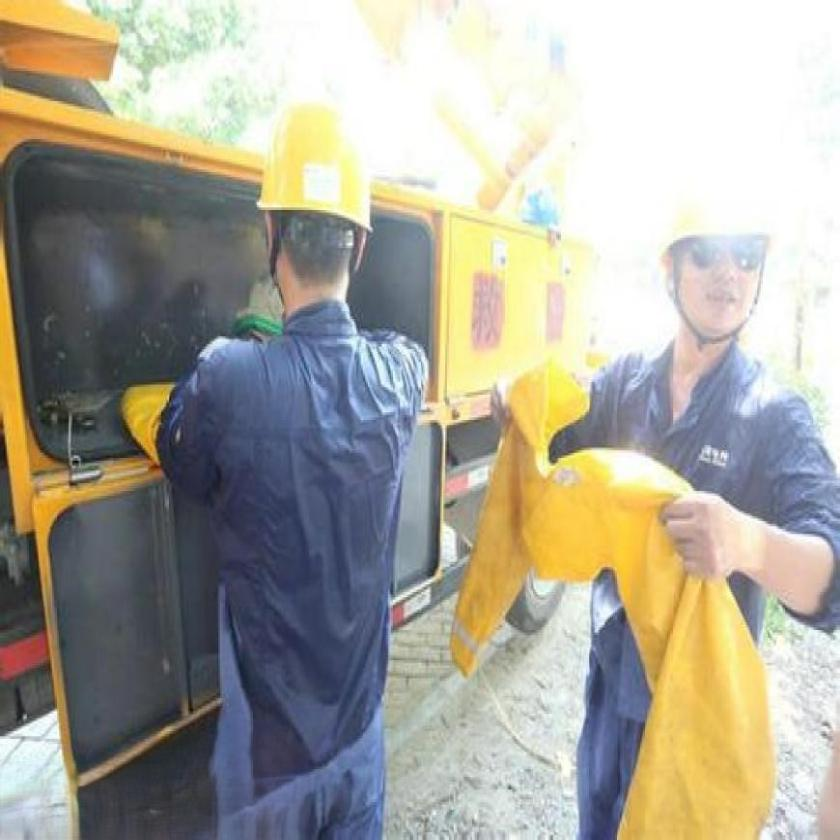Con_casco: (239, 77, 391, 330)
